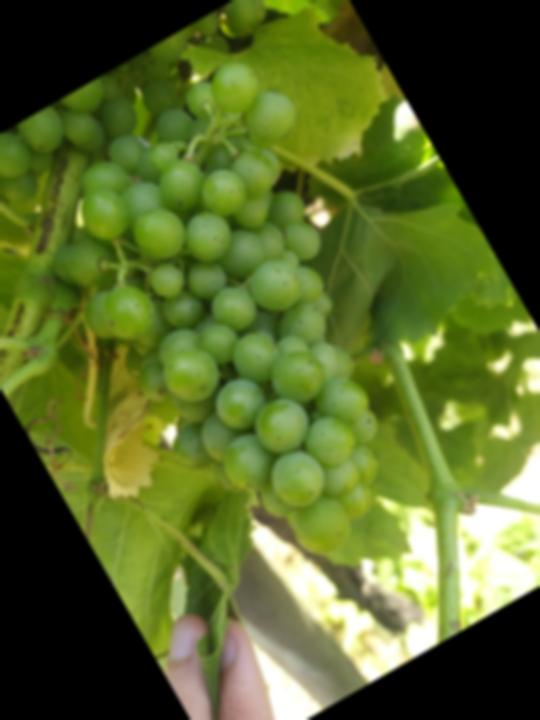grape: (4, 40, 501, 606)
